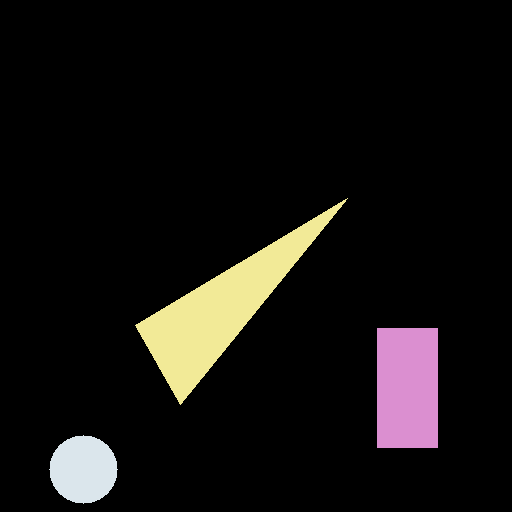circle: (49, 435, 117, 503)
rectangle: (377, 328, 437, 447)
triangle: (135, 198, 347, 404)
